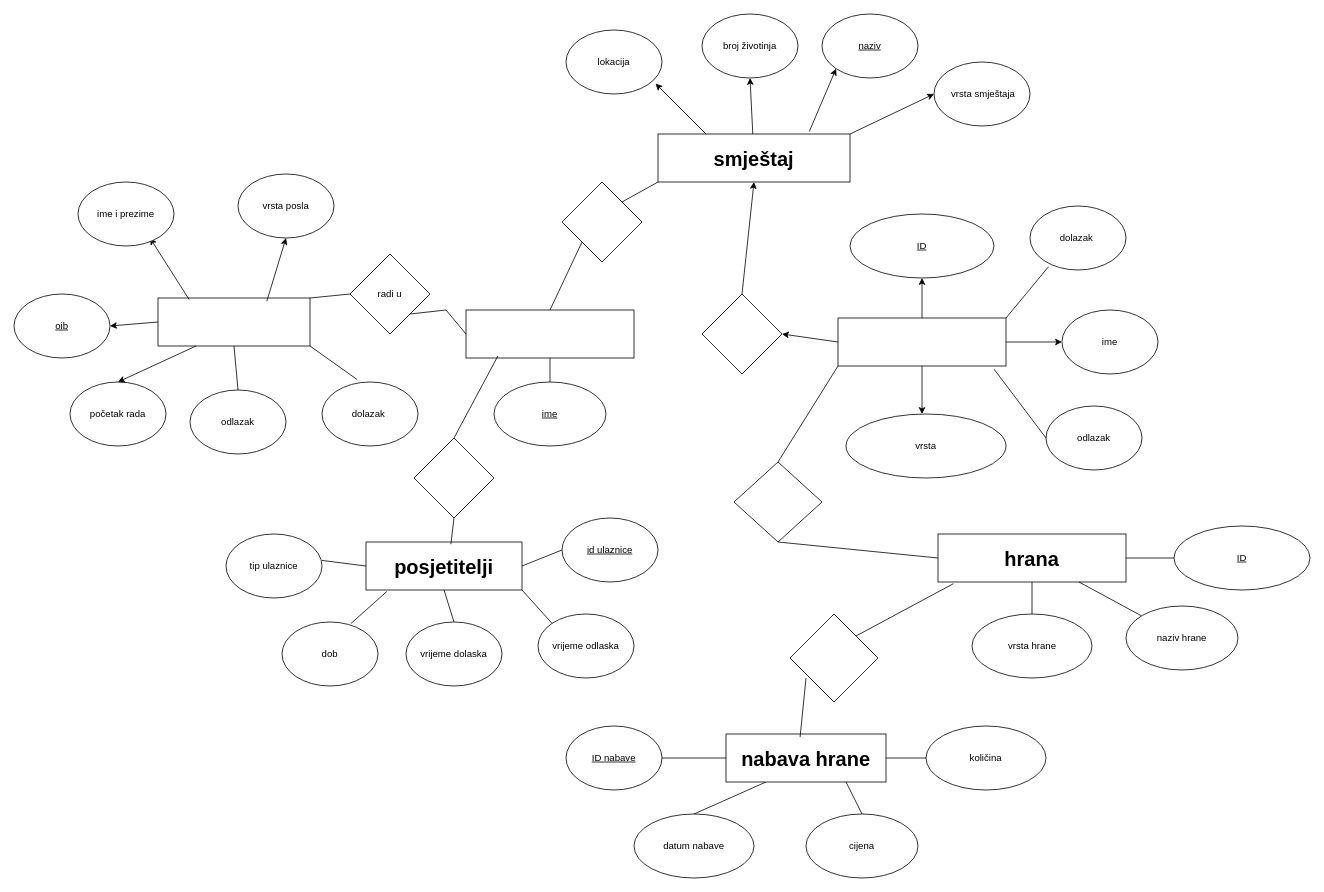
This 1324x892 diagram has some shape labels left out. Each missing label, with the centre of its shape:
nalazi se u: point (601, 221)
pojela je: point (777, 501)
posjećuje: point (453, 477)
zaposlenici: point (233, 321)
ZOOLOŠKI VRT: point (549, 333)
živi u: point (741, 333)
životinja: point (921, 341)
